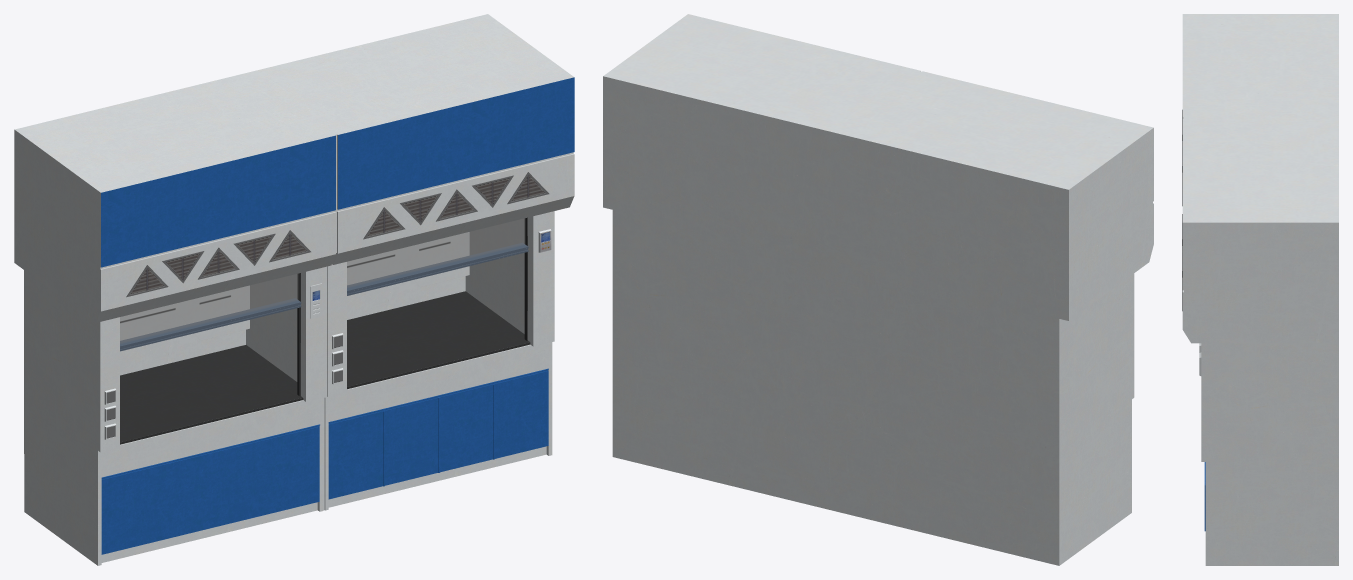
The model's file is SM_通风橱.fbx.
3 renders of one model, left to right at view 1: azimuth 30°, elevation 25°; view 2: azimuth 150°, elevation 25°; view 3: azimuth 270°, elevation 25°, orthographic. The views are drawn at different scales.
Parts seen in each view (by area): view 1: SM_通风橱; view 2: SM_通风橱; view 3: SM_通风橱.
Part boxes in pixels (left/top/right/bottom): SM_通风橱: left=14, top=14, right=574, bottom=565; SM_通风橱: left=603, top=14, right=1153, bottom=565; SM_通风橱: left=1182, top=14, right=1338, bottom=565.
Size of the model in its own units: 2.6 by 2.02 by 0.8272.
